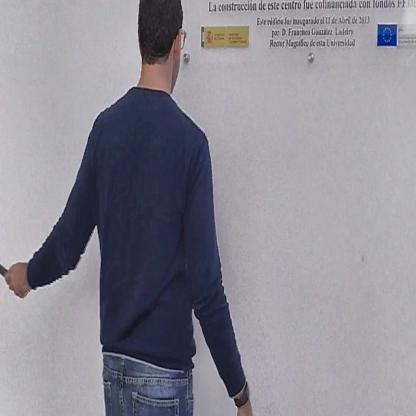knife: (0, 246, 19, 292)
